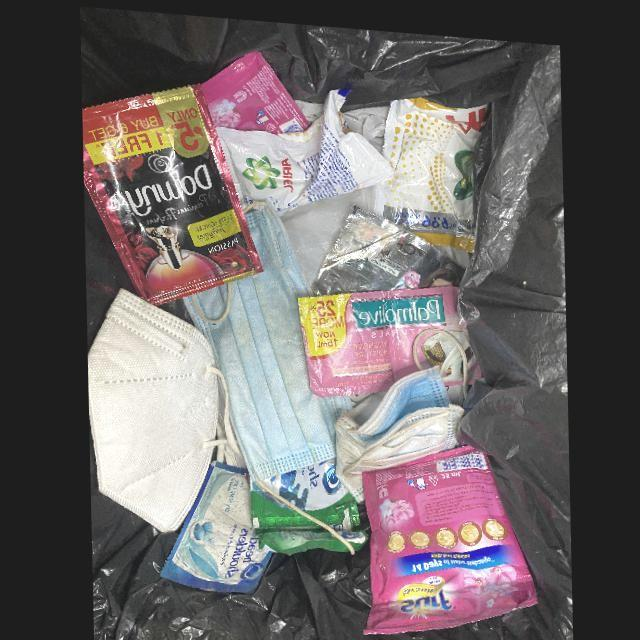plastic_sachet: (82, 81, 262, 304), (359, 437, 535, 631), (215, 82, 393, 212), (296, 278, 476, 398), (383, 90, 493, 246), (157, 461, 272, 591), (308, 199, 465, 292), (248, 458, 365, 551), (201, 47, 310, 130)
